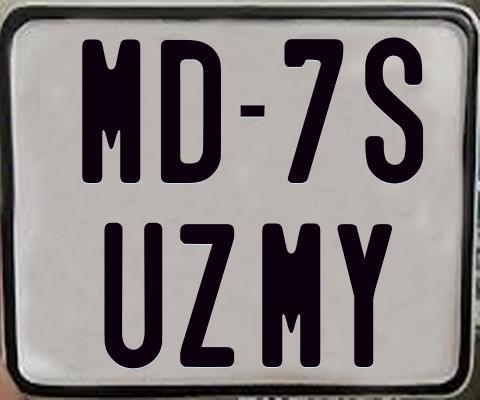7: (284, 36, 350, 180)
D: (160, 40, 220, 189)
M: (79, 38, 141, 186), (259, 222, 320, 372)
S: (362, 36, 421, 183)
U: (104, 221, 164, 369)
Y: (334, 221, 391, 365)
Z: (180, 223, 240, 371)
